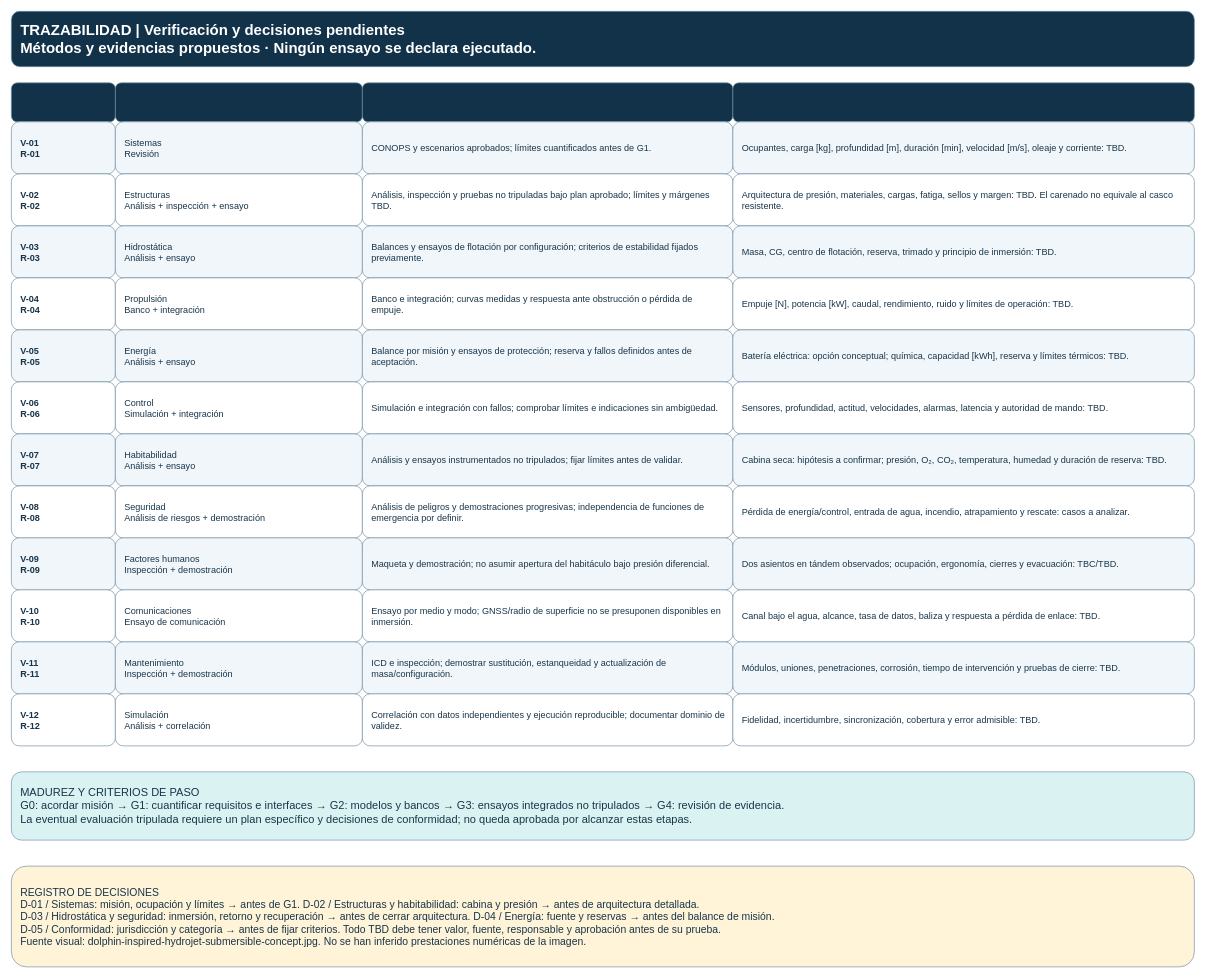
Some shapes in this 1206 by 978 pixel diagram are drawn without their labels. The shapes that lost their labels are listed below. From the top down, each one's centre as x and y in pixels, then its label:
At [63,102]: "ID".
At [238,102]: "Responsable / método".
At [547,102]: "Evidencia de aceptación".
At [963,102]: "Criterio o decisión pendiente".
